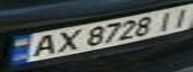2: (118, 17, 142, 42)
7: (103, 19, 124, 45)
8: (133, 13, 160, 37), (84, 24, 106, 47)
A: (21, 33, 63, 58)
I: (151, 8, 181, 33), (166, 4, 193, 29)
X: (48, 28, 84, 54)
